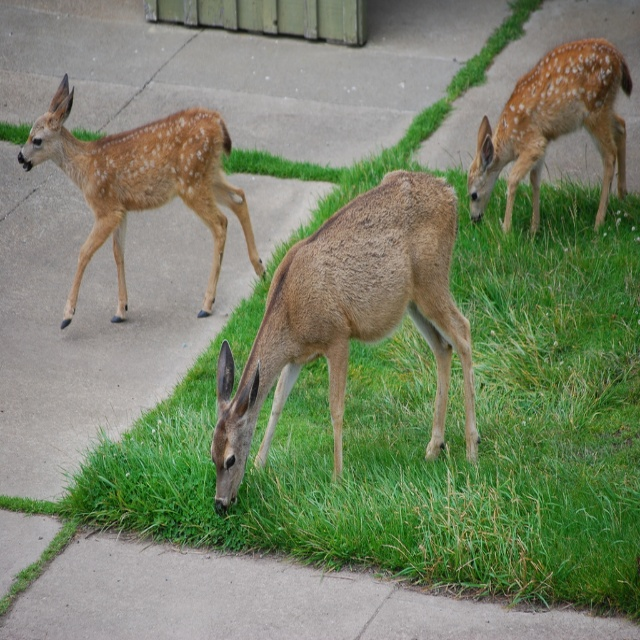Deer: (210, 173, 483, 513), (16, 74, 267, 327), (468, 36, 635, 226)
